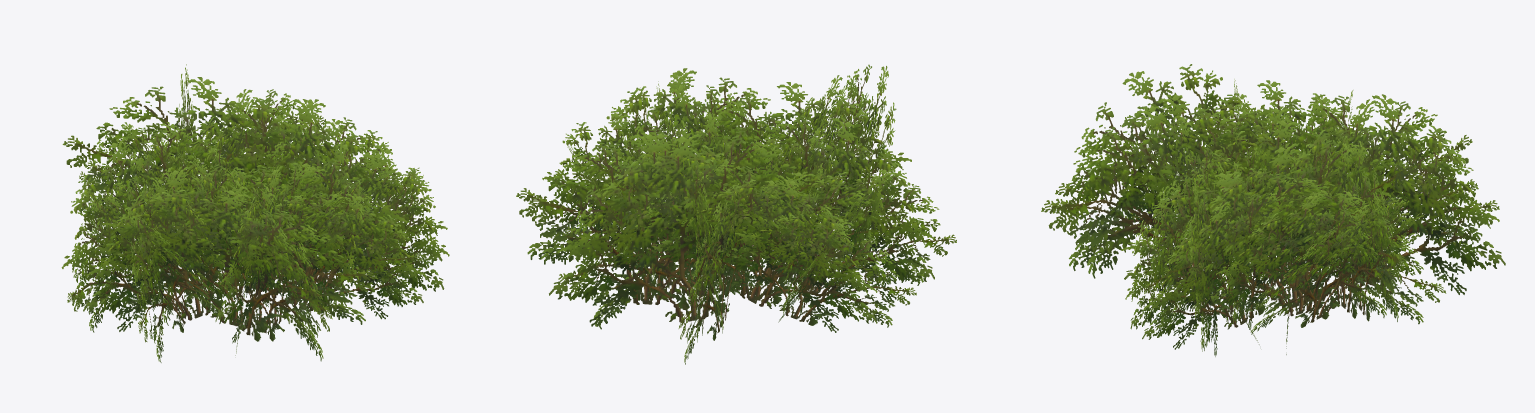
Rendered from far.glb.
3 renders of one model, left to right at view 1: azimuth 30°, elevation 25°; view 2: azimuth 150°, elevation 25°; view 3: azimuth 270°, elevation 25°, orthographic. The views are drawn at different scales.
Parts seen in each view (by area): view 1: lod1, lod2; view 2: lod1, lod2; view 3: lod1, lod2.
Part boxes in pixels (x1,y1,x2,y2): lod1: (61,89,449,362); lod2: (62,64,423,355); lod1: (516,72,956,364); lod2: (549,64,916,333); lod1: (1041,79,1499,356); lod2: (1053,64,1505,344).
Bounding box in the file's own units: 14.6 × 7.96 × 15.43.
Materials: 1 (1 with a texture image).
